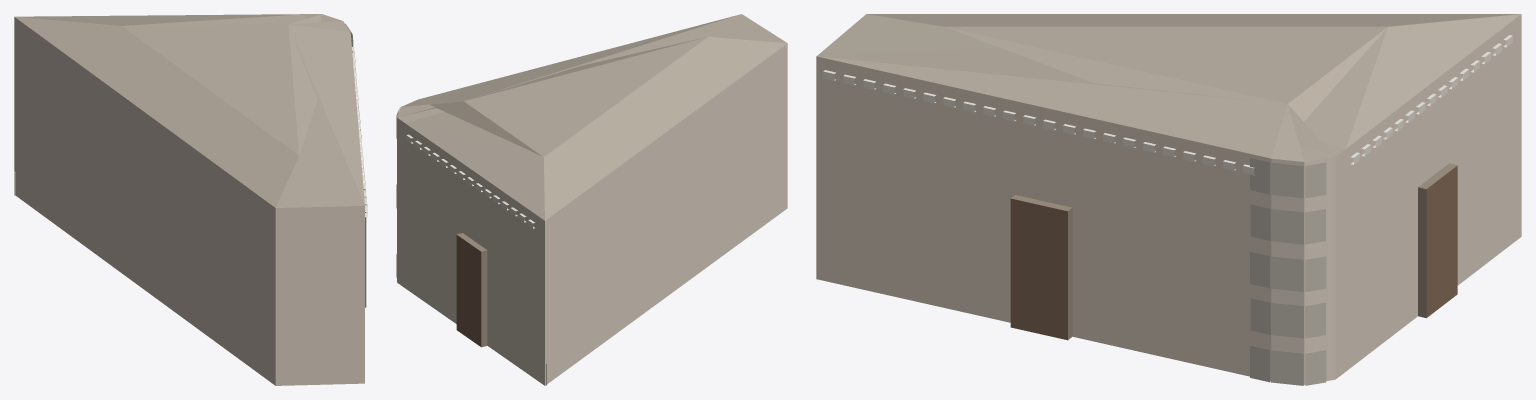
Rendered from N-52-54-E2.n54_e2_low_corner.glb.
3 renders of one model, left to right at view 1: azimuth 30°, elevation 25°; view 2: azimuth 150°, elevation 25°; view 3: azimuth 270°, elevation 25°, orthographic. The views are drawn at different scales.
Visible parts, largest first — view 1: N-52-54-E2.n54_e2_low_corner; view 2: N-52-54-E2.n54_e2_low_corner; view 3: N-52-54-E2.n54_e2_low_corner.
Boxes of the visible parts, x1,y1,x2,y2 form: N-52-54-E2.n54_e2_low_corner: [14, 14, 367, 385]; N-52-54-E2.n54_e2_low_corner: [396, 14, 787, 385]; N-52-54-E2.n54_e2_low_corner: [816, 14, 1521, 385].
Size of the model in its own units: 5.48 by 4.15 by 10.9.
